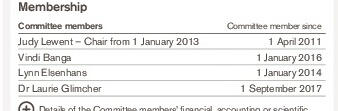table: (0, 0, 338, 111)
